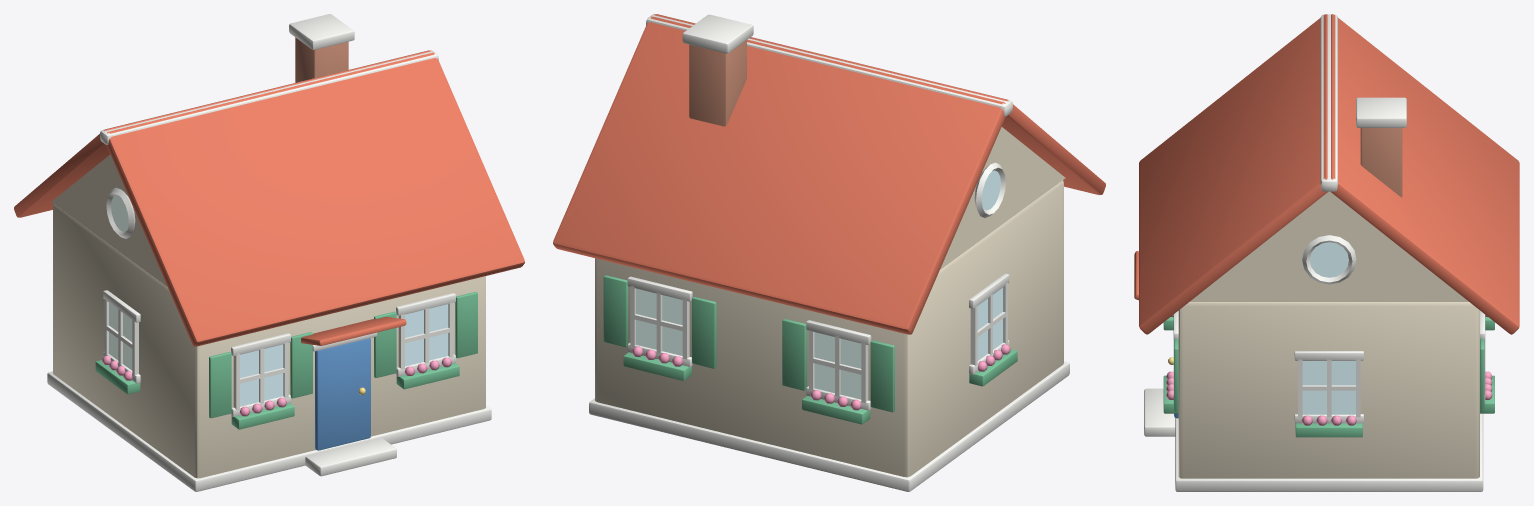
File: house.glb
3 renders of one model, left to right at view 1: azimuth 30°, elevation 25°; view 2: azimuth 150°, elevation 25°; view 3: azimuth 270°, elevation 25°, orthographic. The views are drawn at different scales.
Visible parts, largest first — view 1: house; view 2: house; view 3: house.
Boxes of the visible parts, x1,y1,x2,y2 form: house: (14, 14, 524, 491); house: (553, 14, 1105, 491); house: (1134, 14, 1519, 491).
Bounding box in the file's own units: 3.44 × 3.33 × 3.32.
